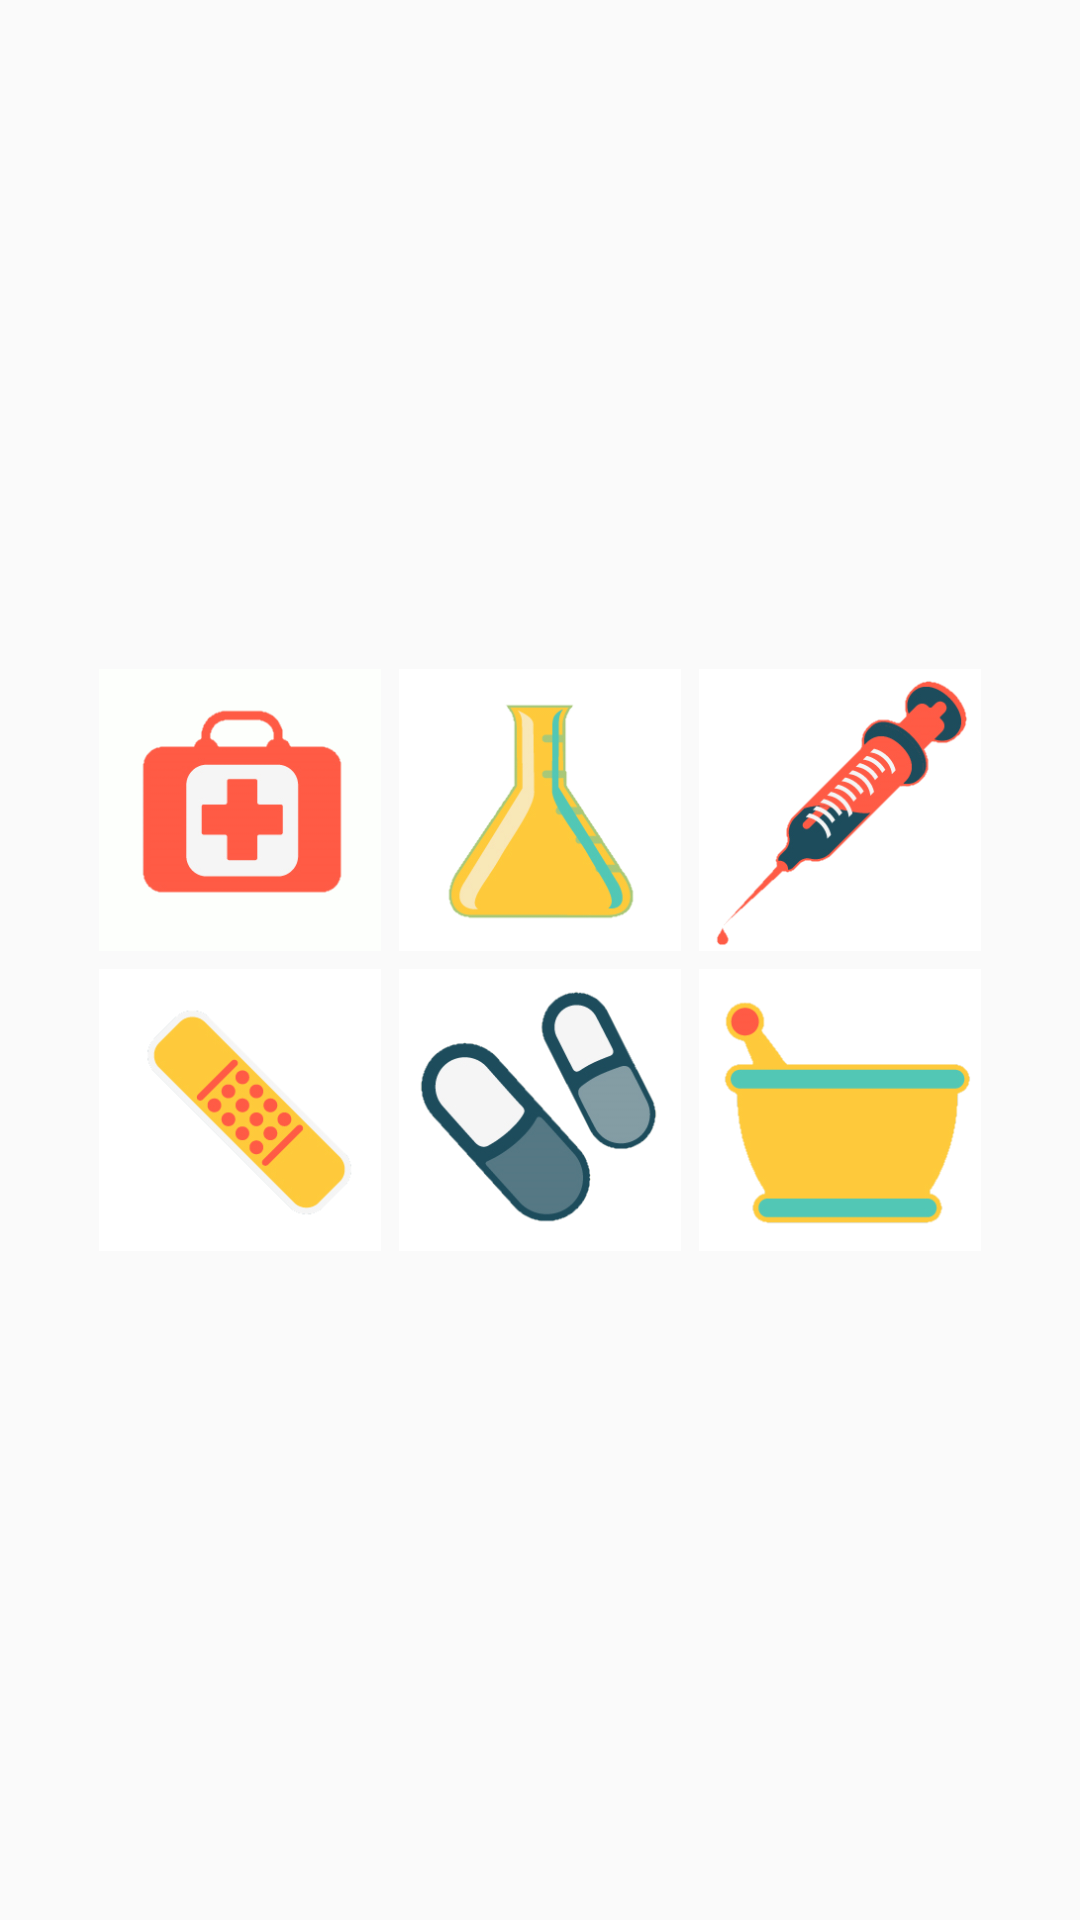

Icons on this 1080w x 1920h Android screen, each with the point to tap as (x,y):
bandage: (249,1112)
beaker: (541,811)
med kit: (242,801)
mortar pestal: (847,1112)
pills: (538,1107)
syringe: (842,813)
